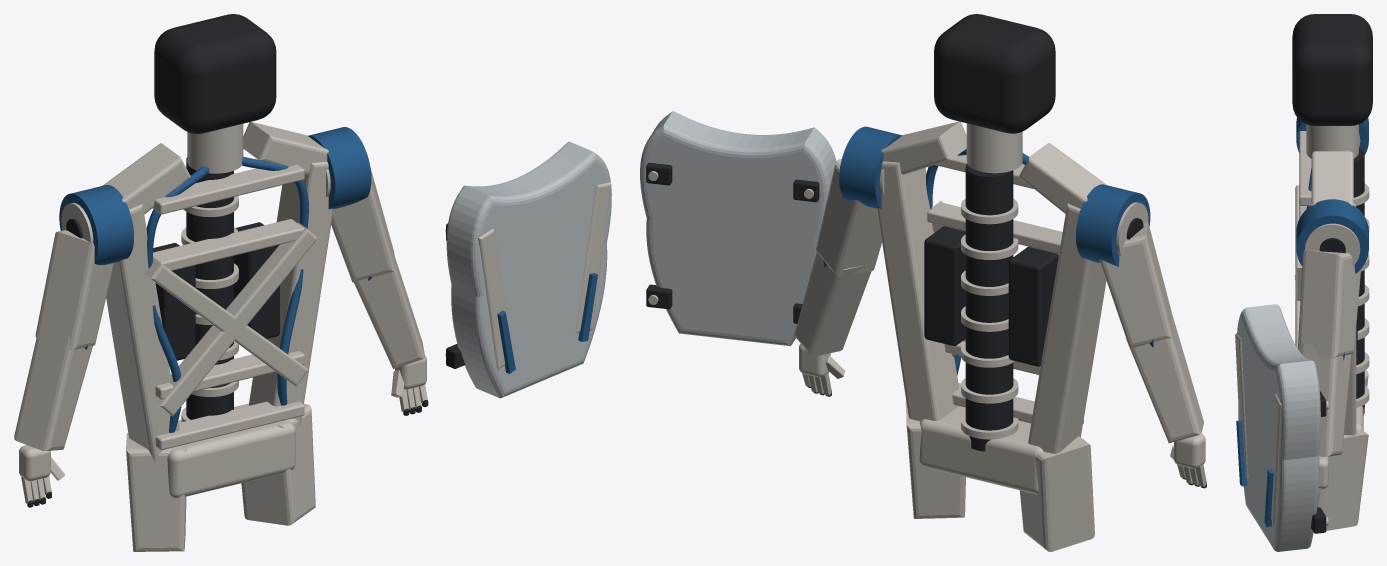
Rendered from anatomy-16.glb.
3 renders of one model, left to right at view 1: azimuth 30°, elevation 25°; view 2: azimuth 150°, elevation 25°; view 3: azimuth 270°, elevation 25°, orthographic. The views are drawn at different scales.
Visible parts, largest first — view 1: shell, arms, frame, braces, pelvis, neck, shoulders, spine, equipment, cables; view 2: shell, frame, arms, pelvis, neck, spine, equipment, shoulders, braces, shell-tabs; view 3: shell, neck, arms, shoulders, pelvis, frame, spine, braces, shell-tabs.
Boxes of the visible parts, x1,y1,x2,y2 form: shell: [446, 141, 611, 398]; arms: [14, 168, 428, 507]; frame: [102, 122, 333, 461]; braces: [144, 164, 317, 449]; pelvis: [126, 403, 315, 551]; neck: [154, 14, 276, 173]; shoulders: [59, 127, 371, 264]; spine: [181, 157, 238, 421]; equipment: [153, 222, 279, 360]; cables: [146, 156, 308, 432]; shell: [640, 111, 836, 345]; frame: [877, 121, 1106, 453]; arms: [794, 159, 1206, 488]; pelvis: [905, 400, 1094, 551]; neck: [934, 14, 1055, 173]; spine: [961, 163, 1018, 451]; equipment: [924, 226, 1058, 366]; shoulders: [839, 126, 1150, 266]; braces: [927, 155, 1083, 423]; shell-tabs: [646, 162, 819, 323]; shell: [1235, 304, 1320, 551]; neck: [1292, 14, 1372, 158]; arms: [1295, 250, 1361, 496]; shoulders: [1296, 117, 1368, 273]; pelvis: [1317, 370, 1368, 530]; frame: [1309, 151, 1356, 435]; spine: [1353, 147, 1369, 413]; braces: [1295, 131, 1311, 348]; shell-tabs: [1311, 391, 1328, 533].
Bounding box in the file's own units: 2.86 × 2.37 × 0.6337.
